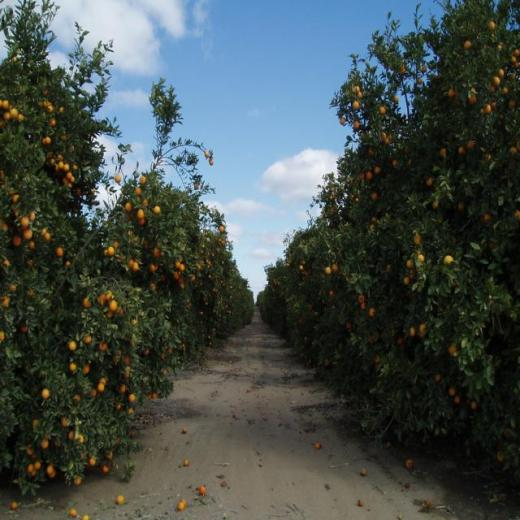Grape: (0, 99, 21, 124), (172, 492, 187, 510), (67, 336, 80, 350), (44, 97, 54, 112), (196, 484, 206, 499), (19, 215, 30, 228), (400, 455, 411, 466), (41, 382, 47, 396), (40, 137, 49, 144), (314, 442, 321, 449), (181, 460, 189, 466), (68, 512, 76, 517), (28, 465, 35, 470), (118, 498, 126, 502), (59, 108, 65, 113), (39, 461, 41, 469)
